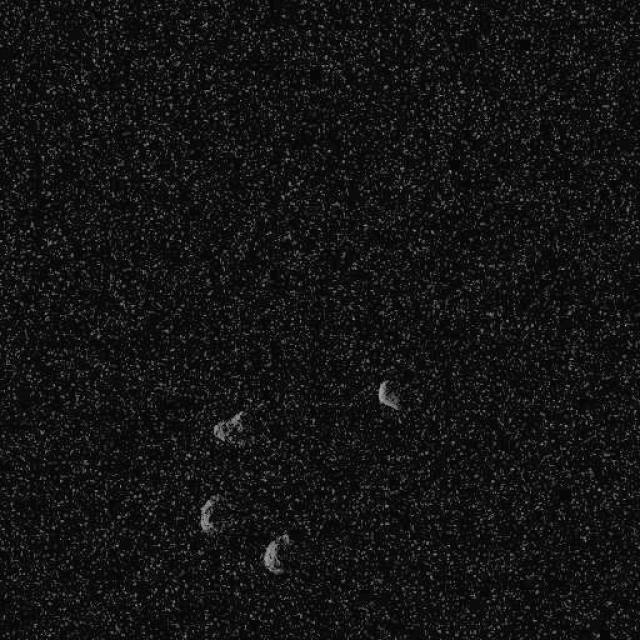D2: (260, 531, 290, 575), (212, 408, 248, 443), (376, 378, 402, 412), (198, 494, 218, 535)
